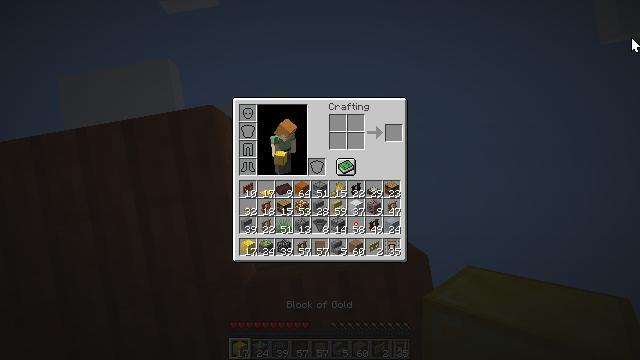cursor: (631, 37, 640, 53)
